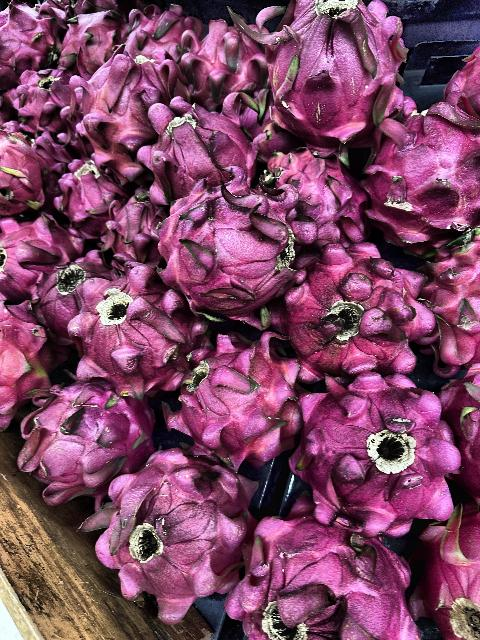buah-naga-belum-matang: (0, 298, 64, 422)
buah-naga-matang: (290, 373, 454, 537), (241, 1, 407, 158), (107, 444, 244, 612), (240, 512, 418, 640), (286, 242, 433, 378), (158, 183, 296, 323), (344, 104, 480, 246), (21, 372, 161, 506), (62, 268, 194, 392), (167, 339, 299, 463), (137, 96, 259, 202), (69, 48, 179, 162), (256, 148, 372, 252), (176, 20, 266, 104), (0, 214, 86, 300), (50, 156, 128, 232), (0, 2, 64, 88), (12, 68, 74, 134), (64, 8, 123, 76), (119, 10, 195, 62)
